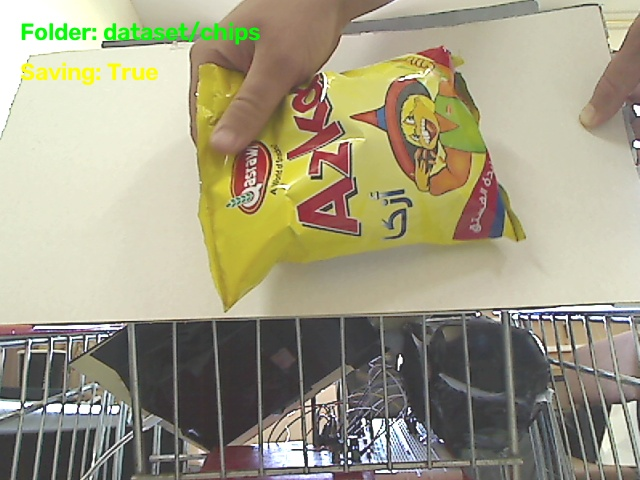chips: (197, 47, 523, 309)
